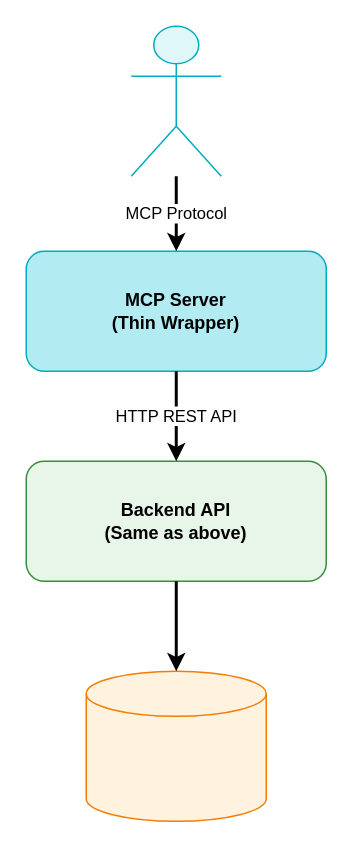
Image size: 353x848. Some labels were removed from this diagram. Each missing label, with the centre of its shape:
AI Agent (Bob IDE, Claude): (x=175, y=100)
OpenSearch: (x=175, y=745)
